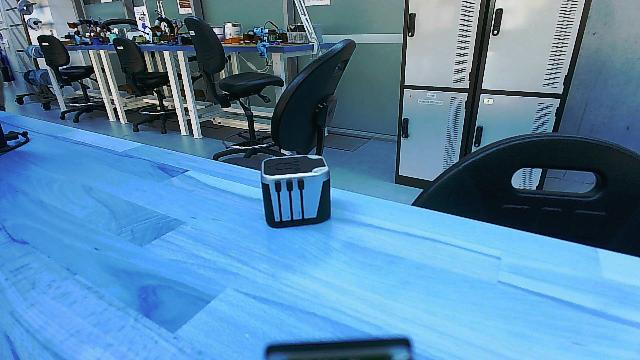adapter: (253, 150, 339, 229)
